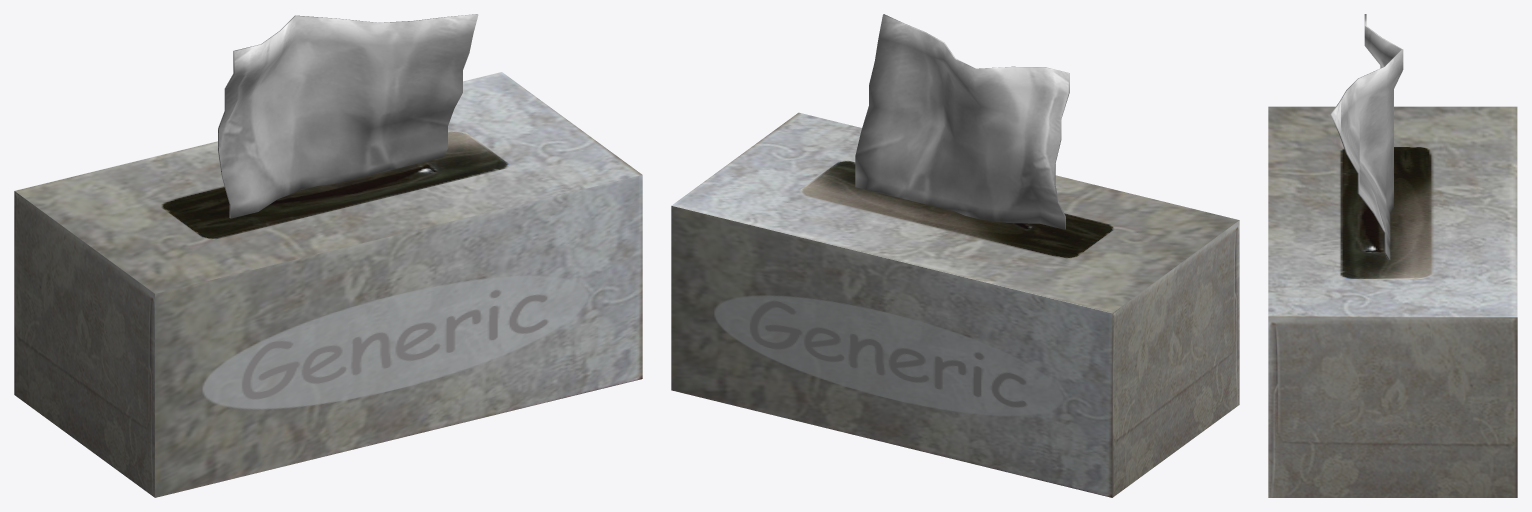
The model's file is Tissue Box.fbx.
3 renders of one model, left to right at view 1: azimuth 30°, elevation 25°; view 2: azimuth 150°, elevation 25°; view 3: azimuth 270°, elevation 25°, orthographic. The views are drawn at different scales.
Parts seen in each view (by area): view 1: Tissue_Box; view 2: Tissue_Box; view 3: Tissue_Box.
Boxes of the visible parts, <box> form: Tissue_Box: <box>14,14,642,497</box>; Tissue_Box: <box>671,14,1239,497</box>; Tissue_Box: <box>1268,14,1517,497</box>.
Size of the model in its own units: 5 by 3.66 by 2.5.
